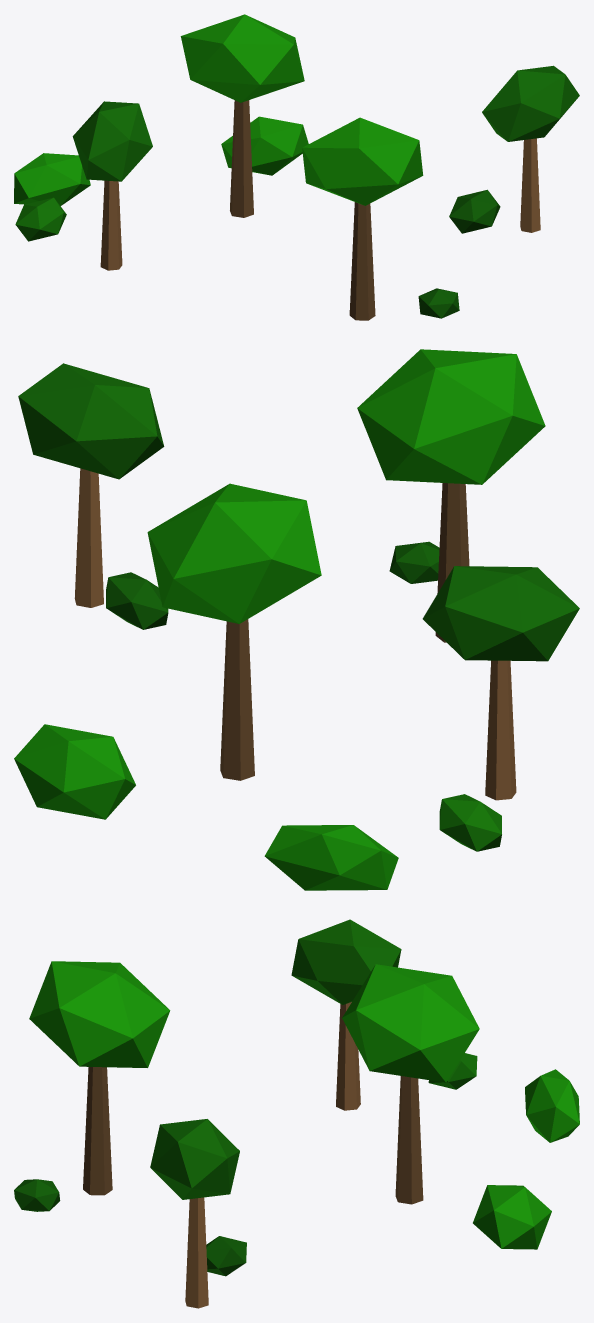
Rendered from street0_2.fbx.
3 views of the same model, one above another, from view 1: azimuth 30°, elevation 25°; view 2: azimuth 150°, elevation 25°; view 3: azimuth 270°, elevation 25° (orthographic). The views are drawn at different scales.
Visible parts, largest first — view 1: treeCrown5.001, treeCrown5, treeCrown6, treeCrown6.001, bushMiddle3, bushShort, treeStump4, treeStump4.001, treeStump5.001, treeStump5, bushMiddle, bushMiddle2 (+1 smaller); view 2: treeCrown5, treeCrown5.001, treeCrown6, treeCrown6.001, bushShort, bushMiddle3, treeStump4.001, treeStump5.001, treeStump5, bushMiddle2, bushMiddle, treeStump4 (+1 smaller); view 3: treeCrown5.001, treeCrown5, treeCrown6.001, treeCrown6, bushShort, treeStump4, bushMiddle3, treeStump4.001, treeStump5, treeStump5.001, bushMiddle, bushSmall9 (+1 smaller).
Boxes of the visible parts, bbox=[...] form: treeCrown5.001: bbox=[180, 14, 304, 102]; treeCrown5: bbox=[302, 117, 423, 205]; treeCrown6: bbox=[482, 65, 579, 141]; treeCrown6.001: bbox=[72, 101, 152, 181]; bushMiddle3: bbox=[14, 153, 90, 205]; bushShort: bbox=[221, 116, 308, 175]; treeStump4: bbox=[349, 202, 375, 320]; treeStump4.001: bbox=[230, 100, 253, 217]; treeStump5.001: bbox=[100, 180, 122, 270]; treeStump5: bbox=[520, 138, 540, 232]; bushMiddle: bbox=[449, 189, 500, 233]; bushMiddle2: bbox=[15, 197, 66, 241]; treeCrown5: bbox=[357, 349, 545, 484]; treeCrown5.001: bbox=[147, 483, 321, 623]; treeCrown6: bbox=[18, 363, 164, 479]; treeCrown6.001: bbox=[422, 566, 579, 661]; bushShort: bbox=[14, 724, 135, 819]; bushMiddle3: bbox=[264, 825, 398, 890]; treeStump4.001: bbox=[220, 619, 254, 780]; treeStump5.001: bbox=[485, 660, 516, 800]; treeStump5: bbox=[74, 468, 103, 607]; bushMiddle2: bbox=[439, 794, 501, 851]; bushMiddle: bbox=[106, 572, 168, 629]; treeStump4: bbox=[435, 483, 469, 642]; treeCrown5.001: bbox=[342, 964, 479, 1082]; treeCrown5: bbox=[29, 961, 170, 1067]; treeCrown6.001: bbox=[291, 919, 401, 1004]; treeCrown6: bbox=[150, 1119, 239, 1199]; bushShort: bbox=[473, 1185, 551, 1249]; treeStump4: bbox=[83, 1067, 112, 1195]; bushMiddle3: bbox=[525, 1069, 579, 1142]; treeStump4.001: bbox=[395, 1076, 423, 1204]; treeStump5: bbox=[185, 1197, 208, 1308]; treeStump5.001: bbox=[336, 1002, 360, 1110]; bushMiddle: bbox=[206, 1236, 246, 1276]; bushSmall9: bbox=[14, 1179, 60, 1211].
Bounding box in the file's own units: 74.45 × 31.73 × 70.89.
